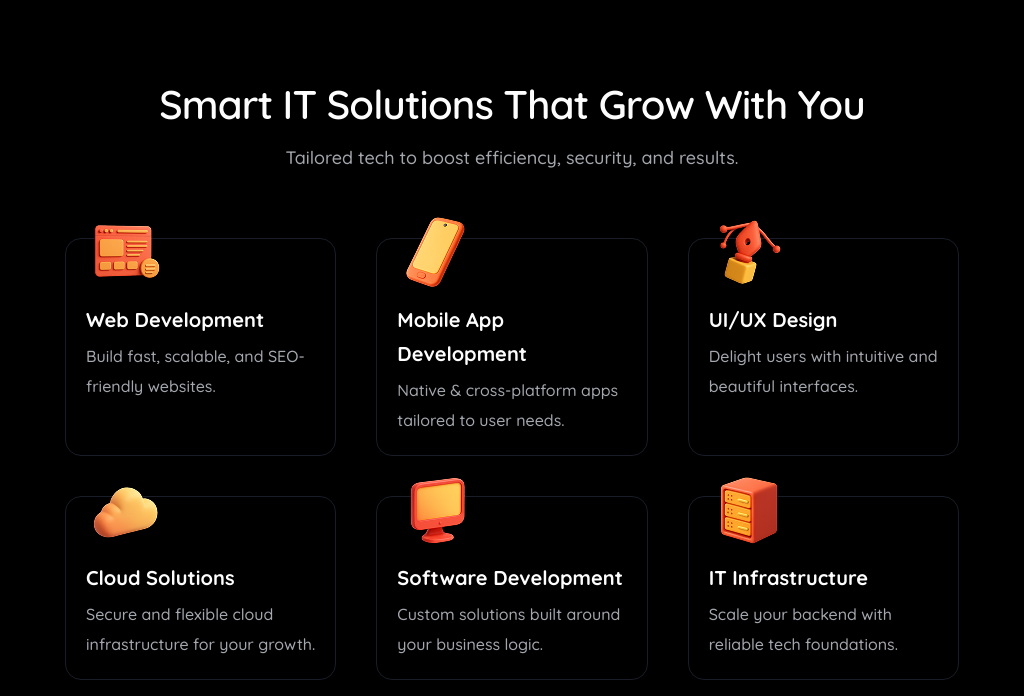
Test: ITServices › opens a detail modal with the description, highlights and metrics on click
Click the button "Web Development" at (201, 347), box [65, 238, 336, 456]
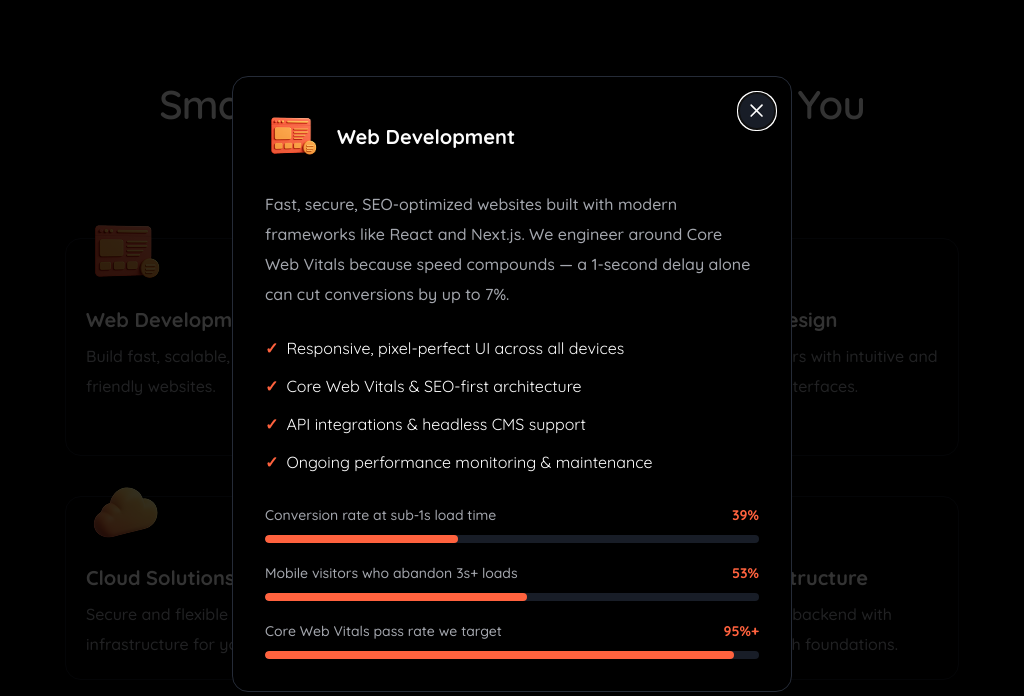
Check: the heading "Web Development" is shown, box [337, 120, 515, 154]
Check: the text "Fast, secure, SEO-optimized websites built with modern frameworks like React and Next.js. We engineer around Core Web Vi" is shown, box [265, 194, 750, 304]
Check: the list item "Responsive, pixel-perfect UI across all devices" is shown, box [286, 338, 624, 358]
